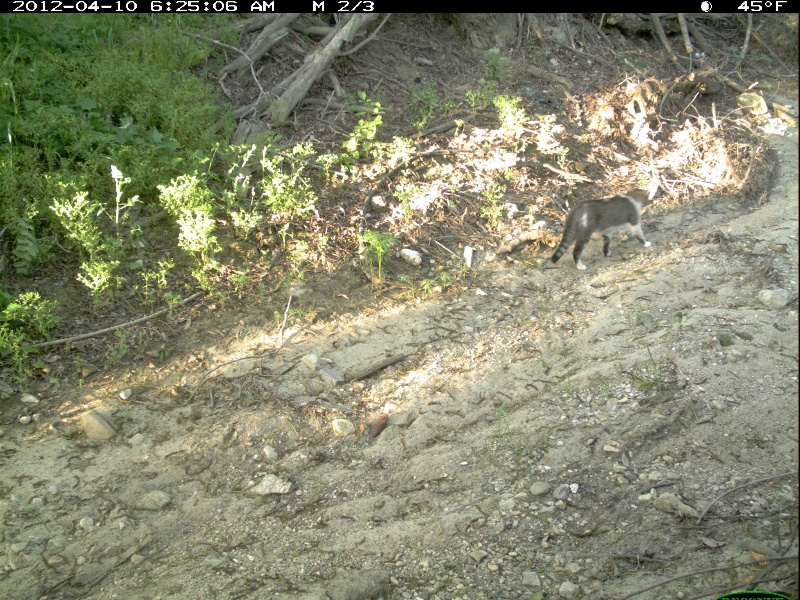cat: (543, 175, 669, 276)
